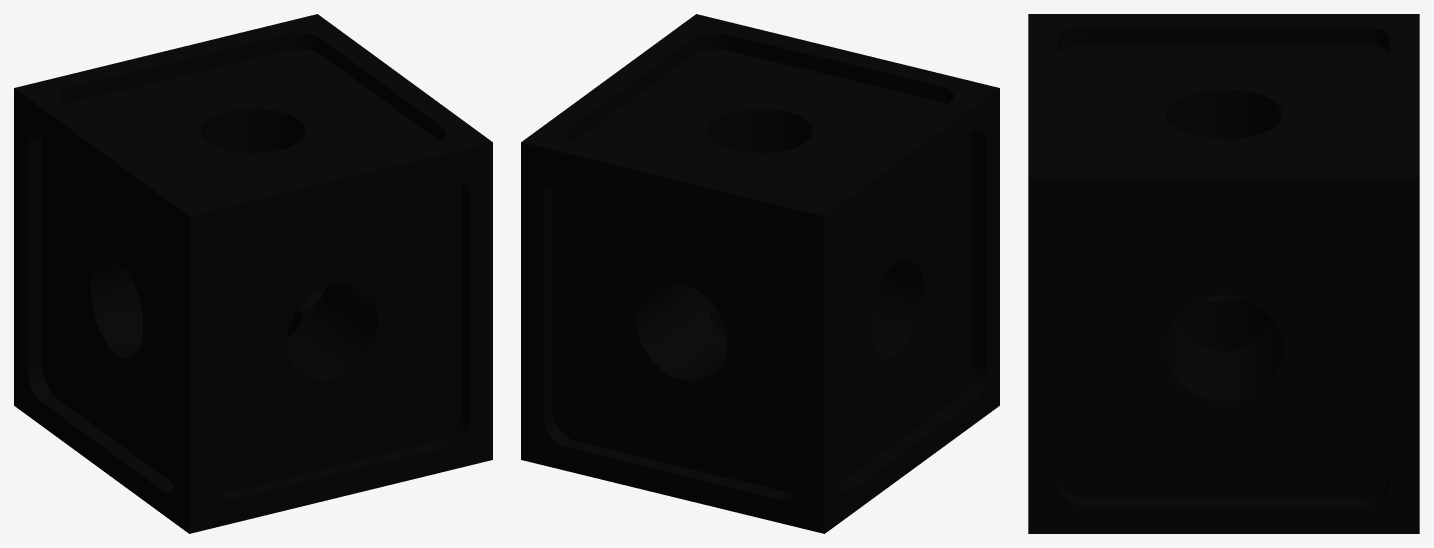
3 views of the same model, side by side, from view 1: azimuth 30°, elevation 25°; view 2: azimuth 150°, elevation 25°; view 3: azimuth 270°, elevation 25° (orthographic). The views are drawn at different scales.
Visible parts, largest first — view 1: Cube; view 2: Cube; view 3: Cube.
Boxes of the visible parts, x1,y1,x2,y2 form: Cube: (14, 14, 492, 533); Cube: (521, 14, 999, 533); Cube: (1028, 14, 1419, 533).
Bounding box in the file's own units: 0.02 × 0.02 × 0.02.
1 material, 1 textured.
